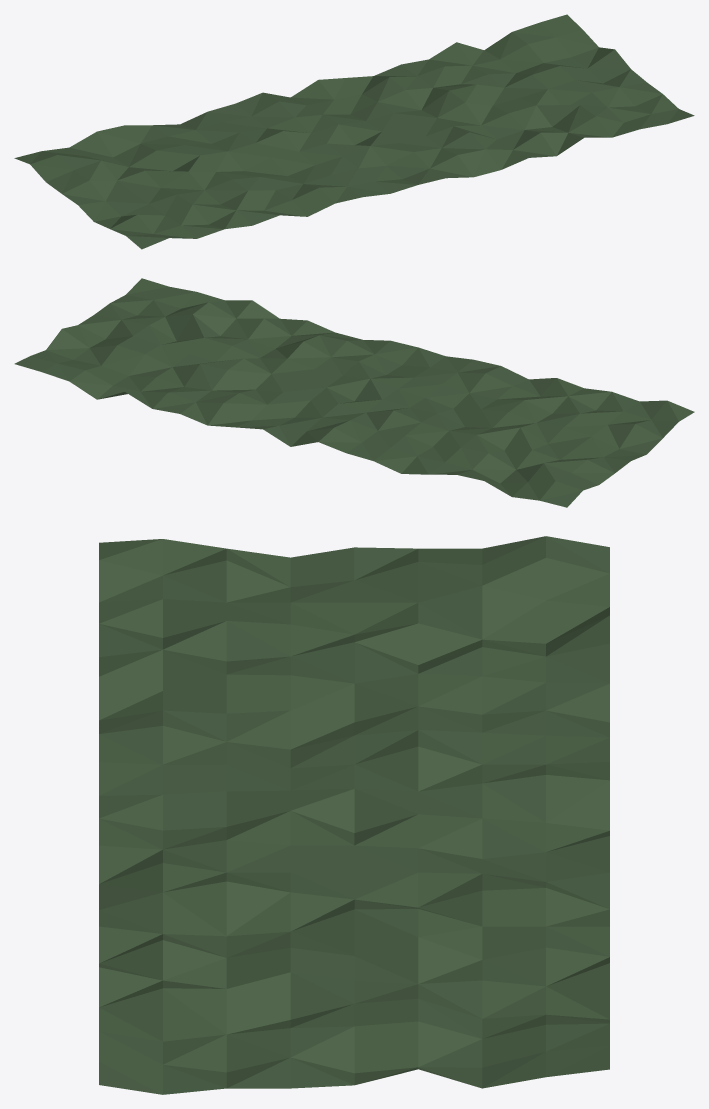
Rendered from grass1.fbx.
3 renders of one model, top to bottom at view 1: azimuth 30°, elevation 25°; view 2: azimuth 150°, elevation 25°; view 3: azimuth 270°, elevation 25°, orthographic. The views are drawn at different scales.
Parts seen in each view (by area): view 1: Plane; view 2: Plane; view 3: Plane.
Boxes of the visible parts, box(x1,y1,x2,y2) form: Plane: box(14, 14, 694, 249); Plane: box(14, 278, 694, 507); Plane: box(99, 536, 609, 1094).
Size of the model in its own units: 2000 by 58.41 by 800.
